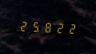eight: (42, 19, 53, 34)
five: (30, 19, 41, 33)
two: (18, 18, 29, 33), (66, 20, 77, 35), (54, 20, 65, 34)
